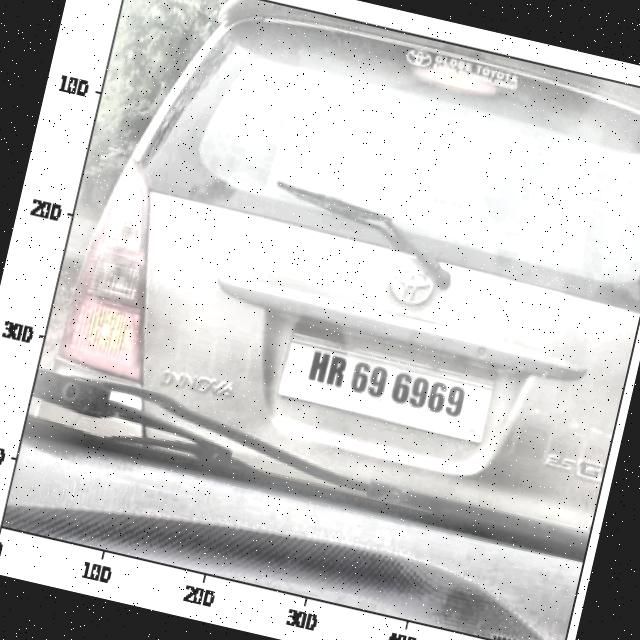license_plate: (298, 338, 478, 428)
